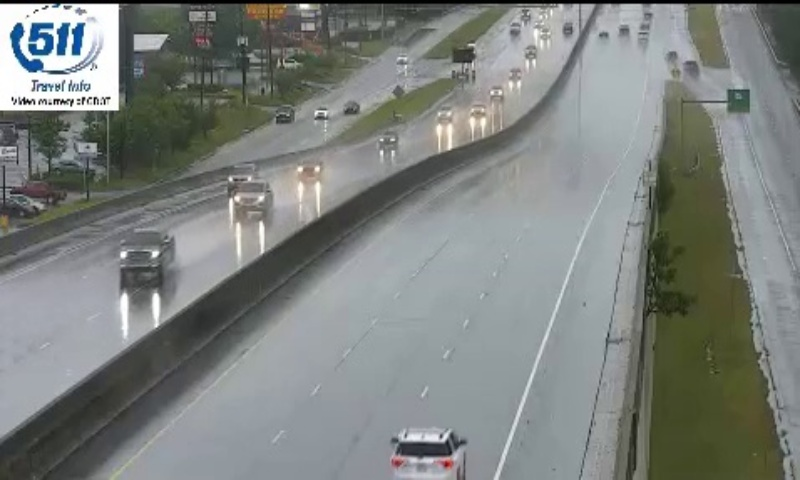car: (391, 430, 466, 480)
